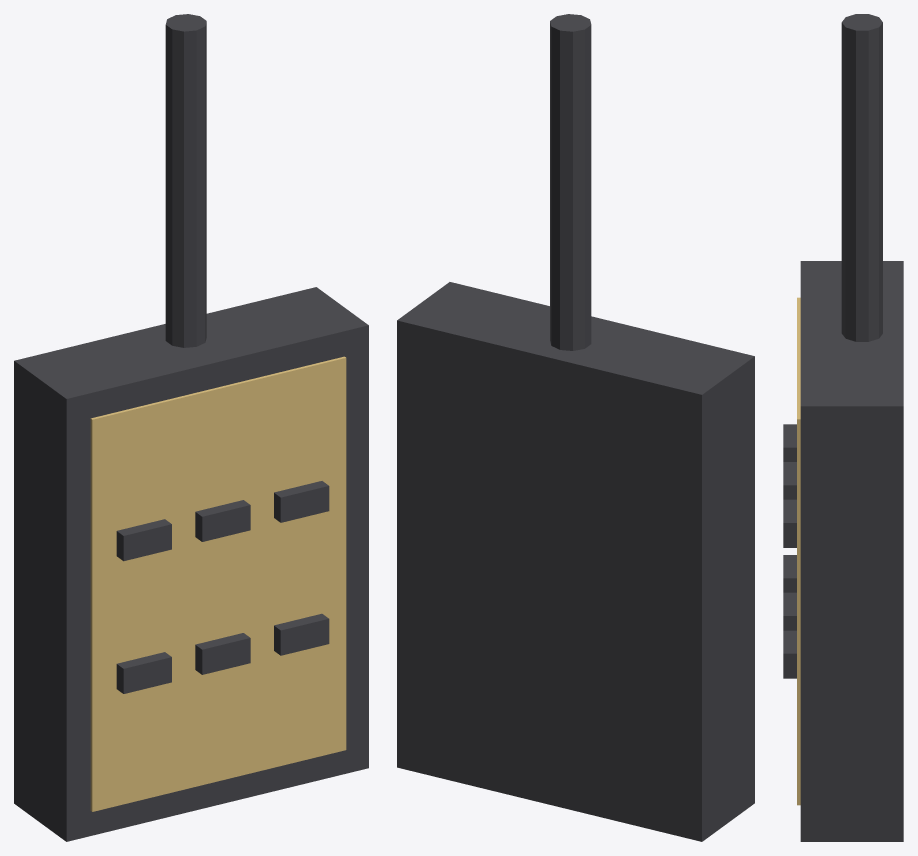
File: INT_CajaFusibles.fbx
3 views of the same model, side by side, from view 1: azimuth 30°, elevation 25°; view 2: azimuth 150°, elevation 25°; view 3: azimuth 270°, elevation 25° (orthographic). The views are drawn at different scales.
Visible parts, largest first — view 1: INT_CajaFusibles; view 2: INT_CajaFusibles; view 3: INT_CajaFusibles.
Boxes of the visible parts, box(x1,y1,x2,y2) form: INT_CajaFusibles: box(14, 14, 368, 841); INT_CajaFusibles: box(397, 14, 754, 841); INT_CajaFusibles: box(783, 14, 903, 841).
Size of the model in its own units: 0.5 by 1.2 by 0.175.
